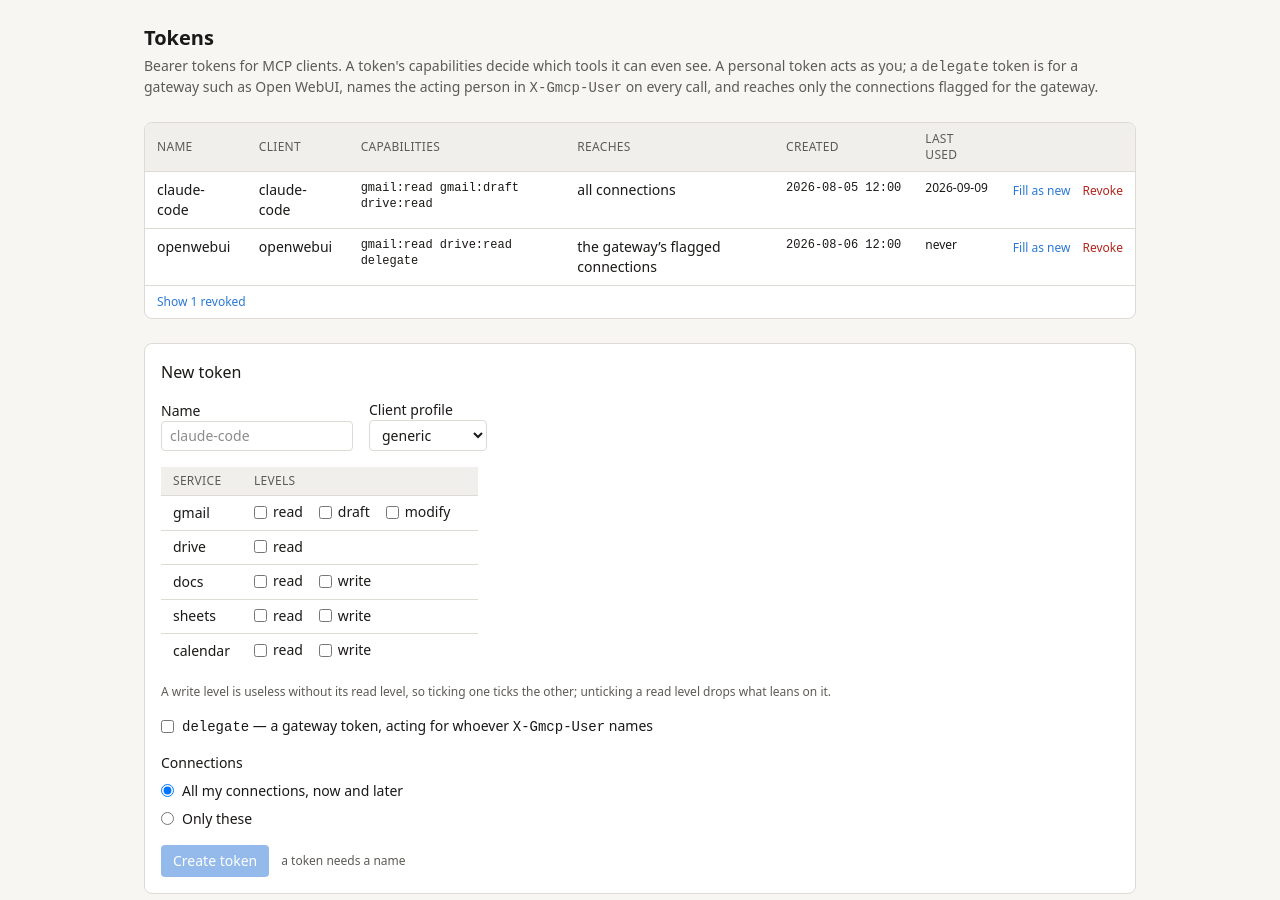
Scenario: views › TokensView ticks the read level along and disables the picker for a delegate
Click the checkbox with test id "scope-docs:write": (325,581) [319,574,332,588]
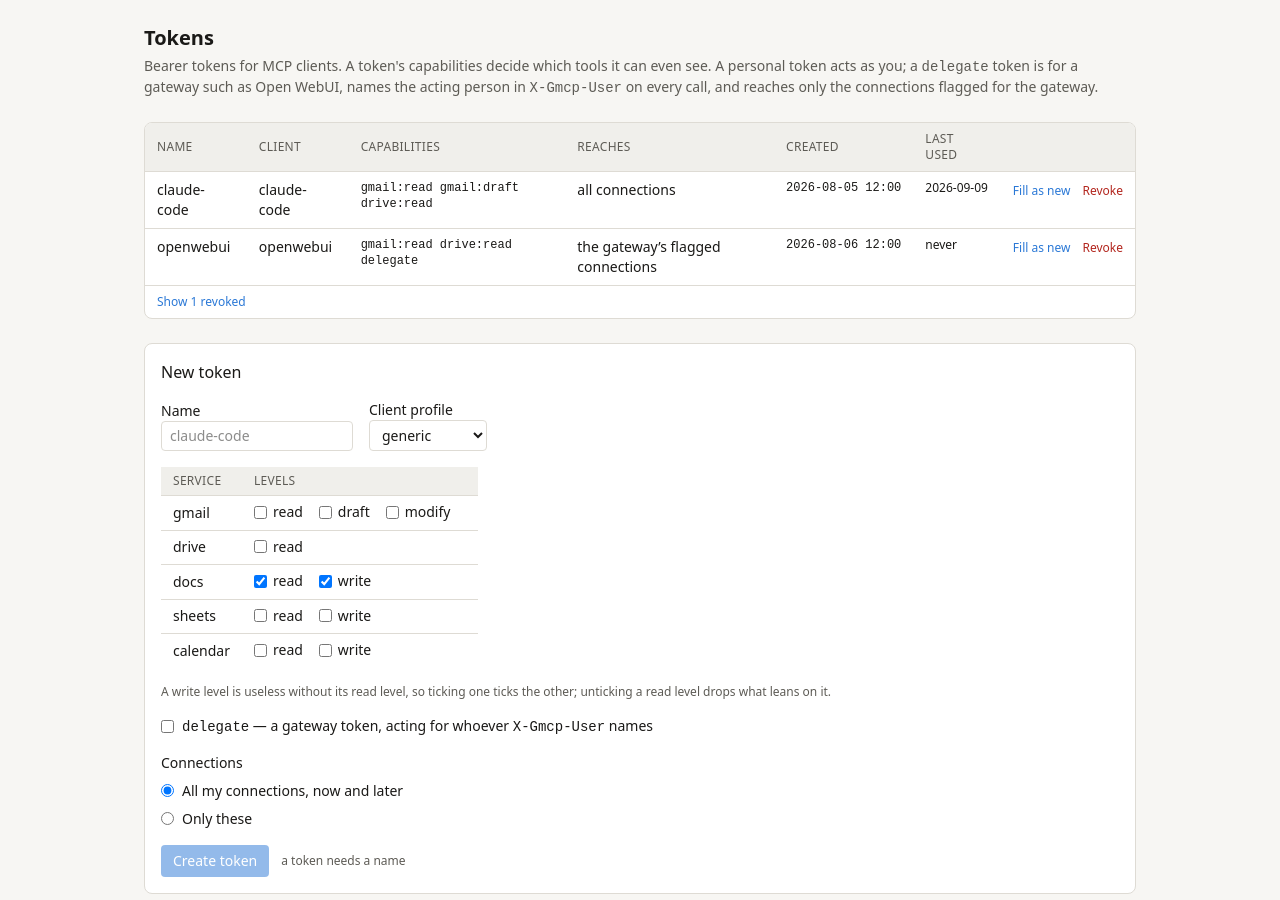
Expected: the element with test id "connection-picker" is enabled, [161,752,403,828]
Now the checkbox with test id "scope-docs:read" is checked, box [254,574,267,588]
Click the checkbox with test id "token-delegate": (168,726) [161,720,174,732]
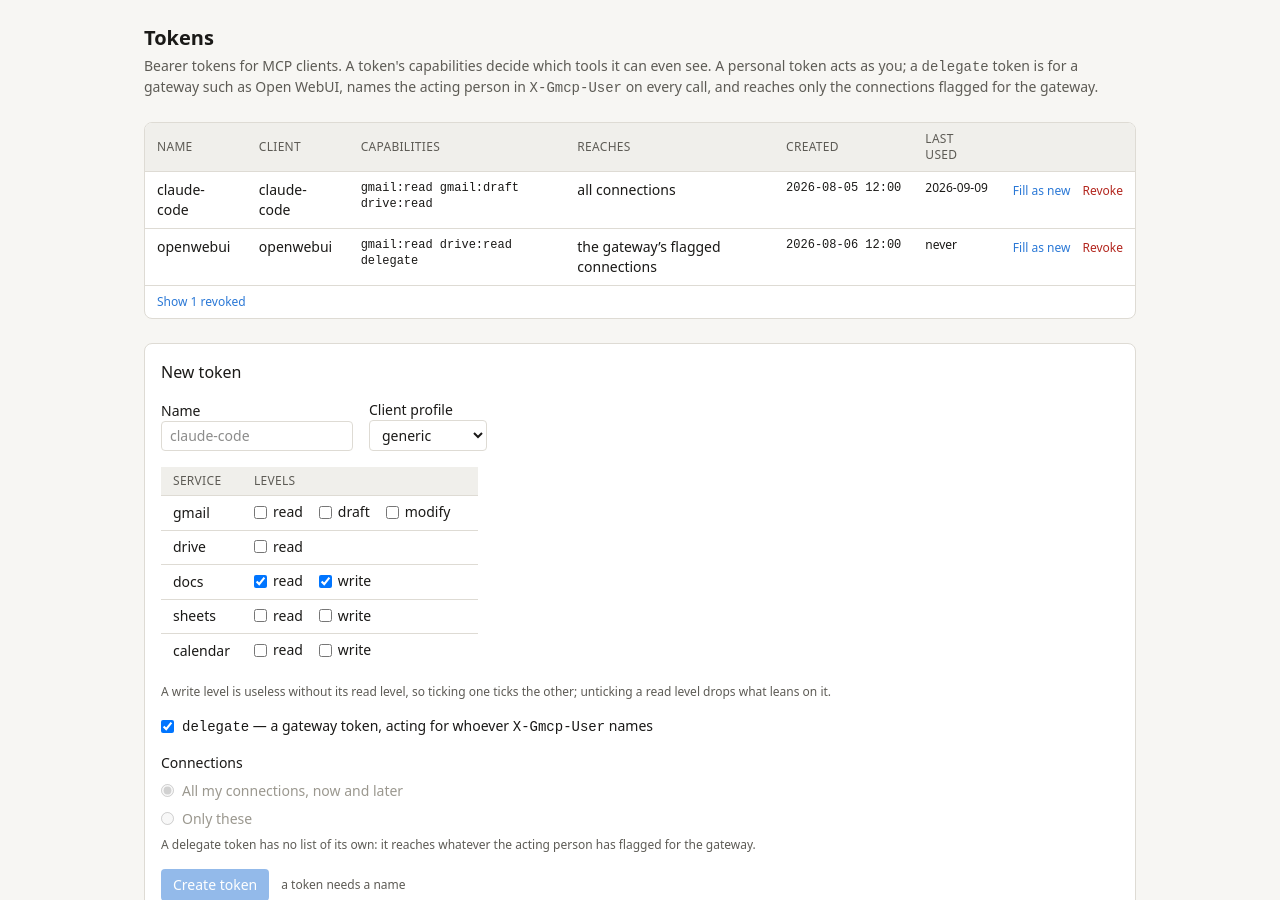
Now the element with test id "connection-picker" is disabled, box [161,752,756,852]
Now the text with test id "picker-note" is shown, box [161,836,756,852]
